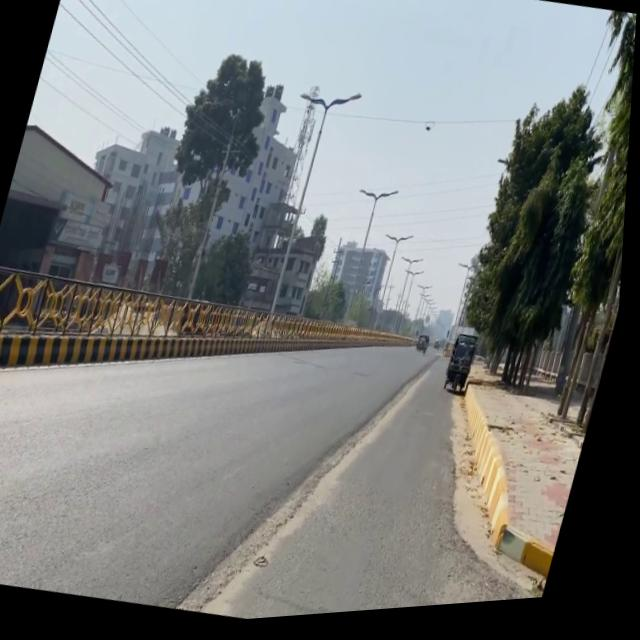Construction-barrier: (421, 377, 601, 601)
Pole: (0, 237, 290, 429)
Pothole: (349, 340, 608, 618)
Traffic-cone: (444, 337, 484, 403)
